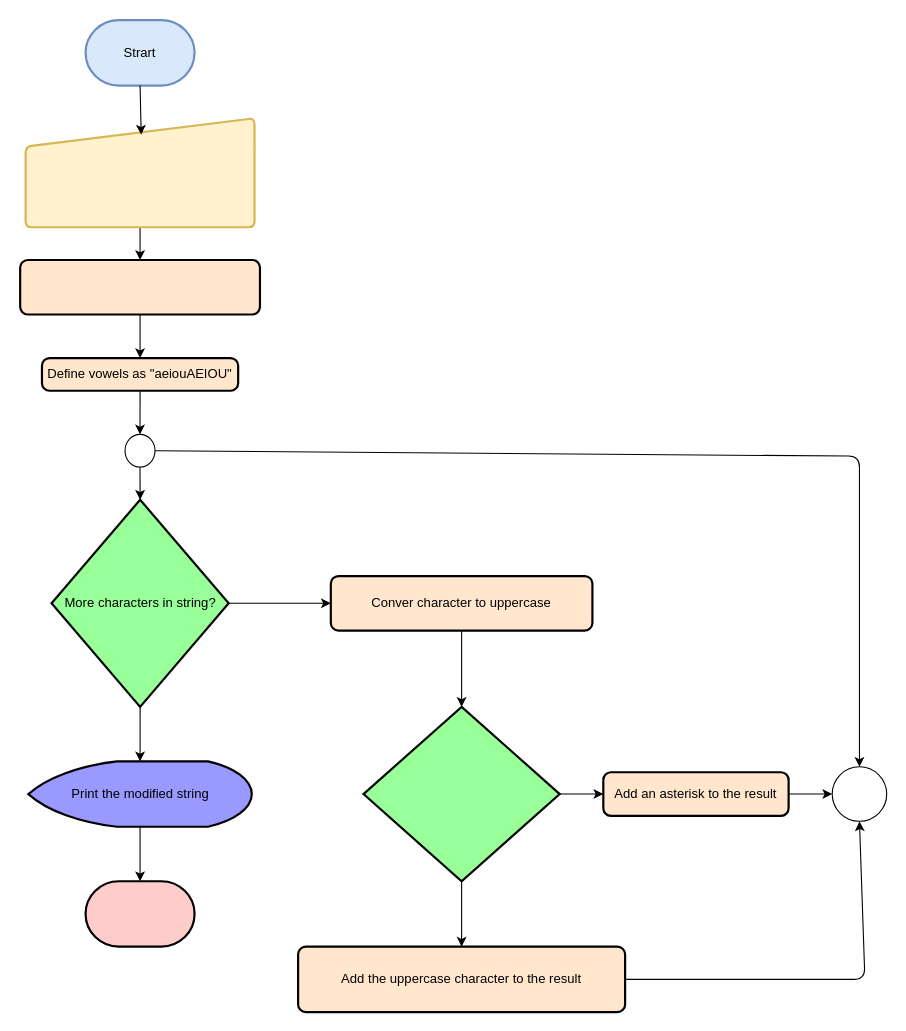
This 906x1031 diagram has some shape labels left out. Here are the shapes that lost their labels. From the top down, the centre of each, then its label:
At [139,172]: "Read input string from the user".
At [140,286]: "Initialize an empty string for the result".
At [461,793]: "Is character a vowel?".
At [139,913]: "End".
